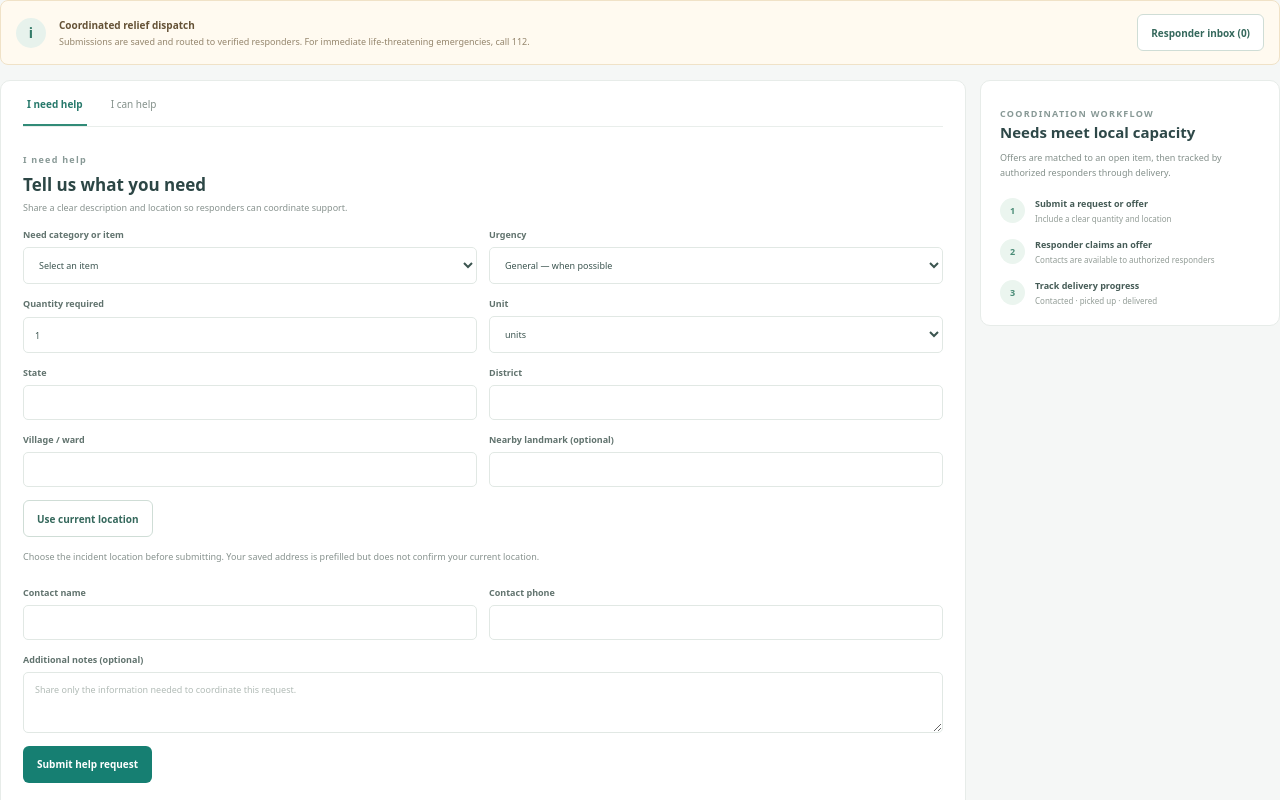
it: community support coordination › fills state, district, and village or ward after selecting current location
What coordinates should you click on to do the following:
click the button "Use current location"
I would click on:
 (88, 518)
Its box is [23,500,153,537].
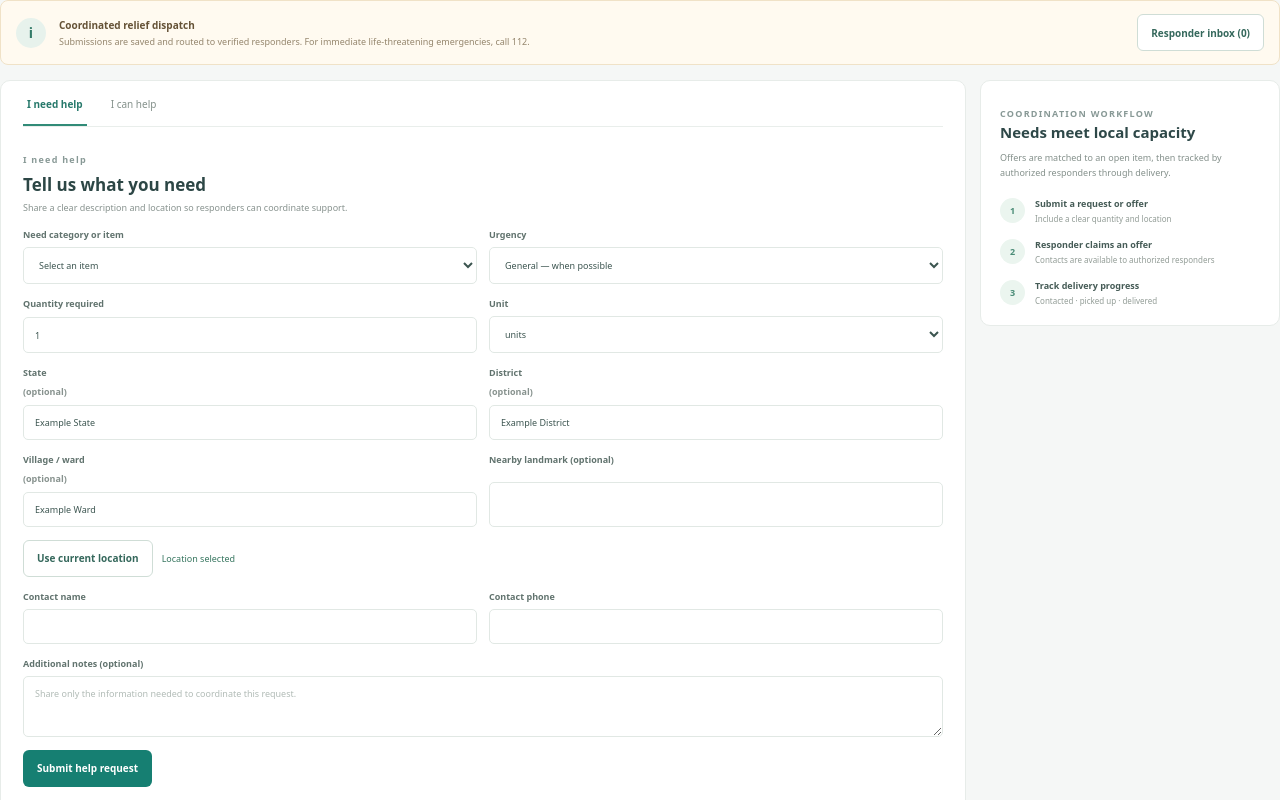
Expected: the field labelled "State" holds "Example State", [23,405,477,440]
Expected: the field labelled "District" holds "Example District", [489,405,943,440]
Expected: the field labelled "Village / ward" holds "Example Ward", [23,492,477,527]
